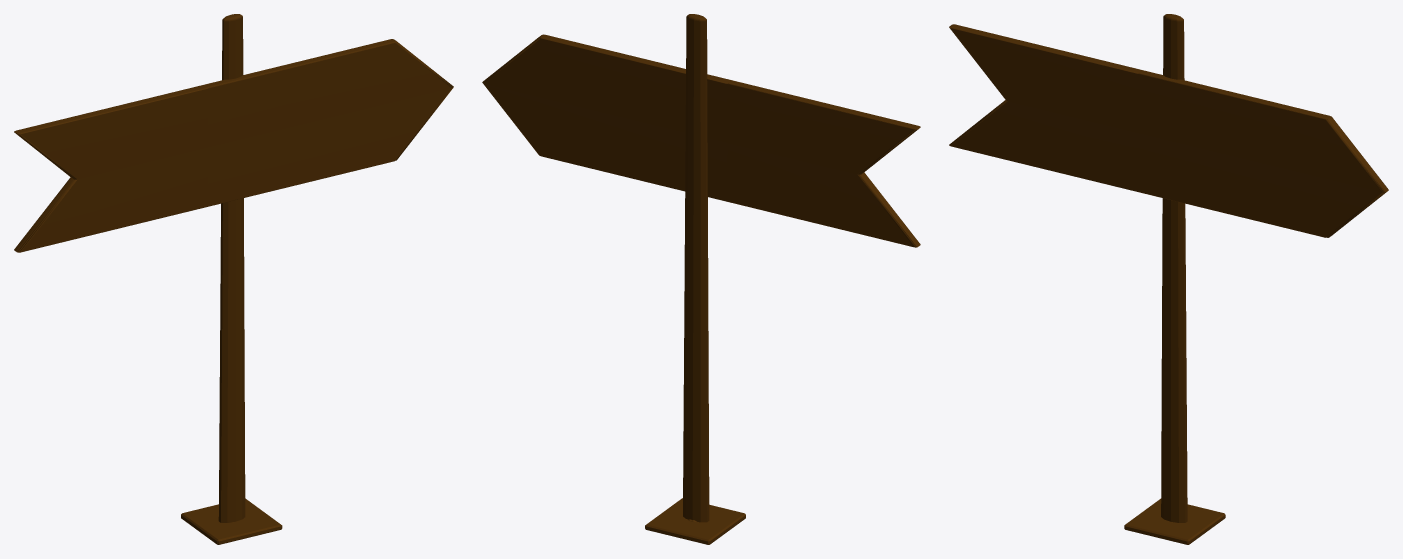
Rendered from sign2.fbx.
3 views of the same model, side by side, from view 1: azimuth 30°, elevation 25°; view 2: azimuth 150°, elevation 25°; view 3: azimuth 330°, elevation 25° (orthographic).
Parts seen in each view (by area): view 1: sign2, sign; view 2: sign2, sign; view 3: sign2, sign.
Boxes of the visible parts, x1,y1,x2,y2 form: sign2: [14, 39, 453, 252]; sign: [181, 14, 282, 544]; sign2: [482, 34, 920, 247]; sign: [645, 14, 745, 544]; sign2: [949, 24, 1388, 237]; sign: [1124, 14, 1225, 544].
Size of the model in its own units: 180 by 200 by 26.76.
